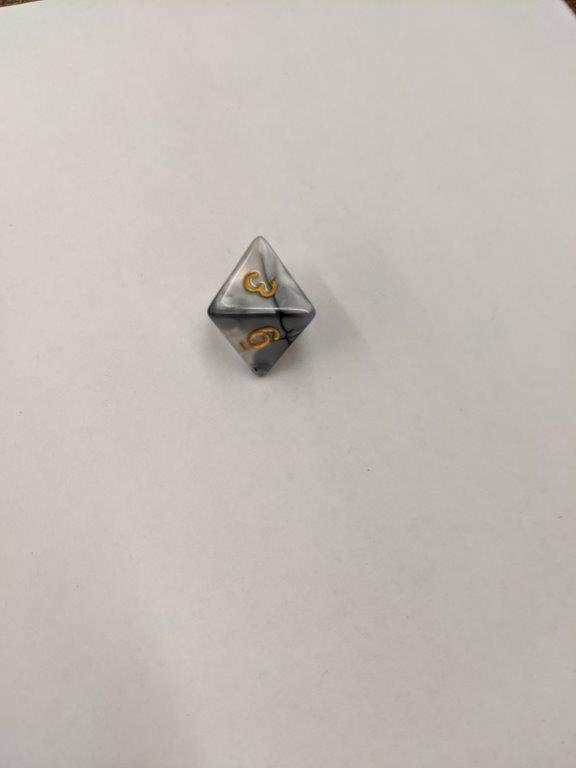d8-3: (205, 234, 317, 379)
